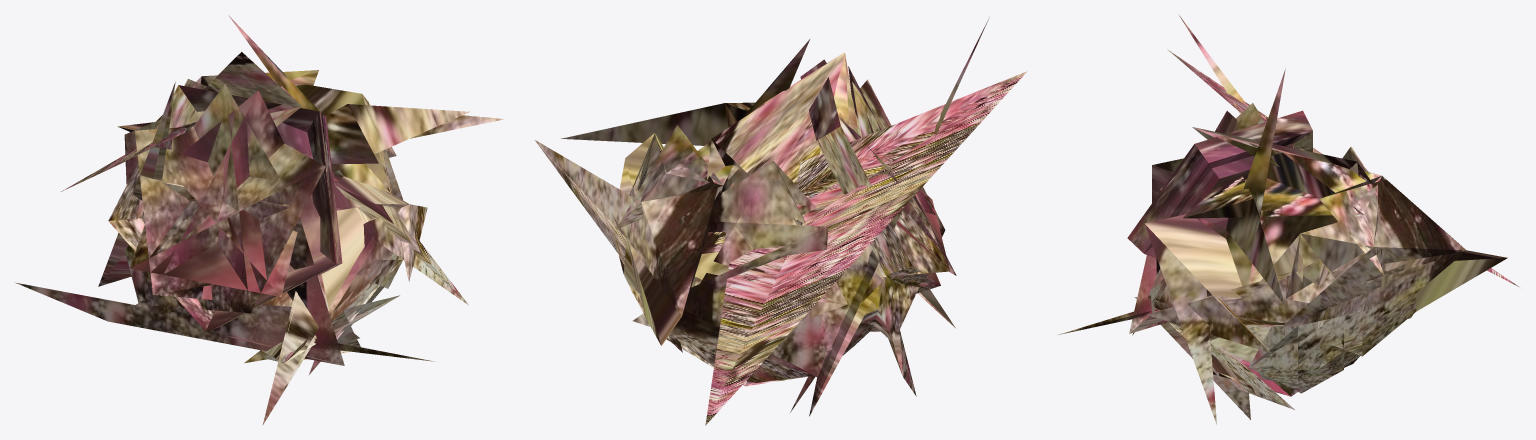
Rendered from flor3.gltf.
The picture shows the model from 3 angles, left to right: view 1: azimuth 30°, elevation 25°; view 2: azimuth 150°, elevation 25°; view 3: azimuth 270°, elevation 25°; orthographic projection. The views are drawn at different scales.
Parts seen in each view (by area): view 1: Icosphere; view 2: Icosphere; view 3: Icosphere.
Part boxes in pixels (x1=…): Icosphere: x1=15, y1=15, x2=504, y2=425; Icosphere: x1=535, y1=19, x2=1027, y2=425; Icosphere: x1=1058, y1=15, x2=1518, y2=424.
Bounding box in the file's own units: 3.45 × 2.71 × 3.7.
1 material, 1 textured.
